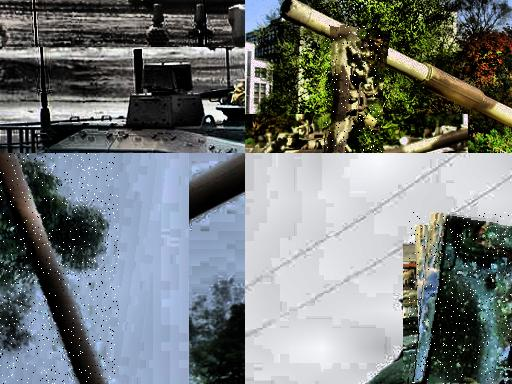tanks: (284, 1, 512, 127), (1, 154, 102, 384), (1, 63, 246, 154), (412, 214, 512, 384), (328, 27, 383, 154)
